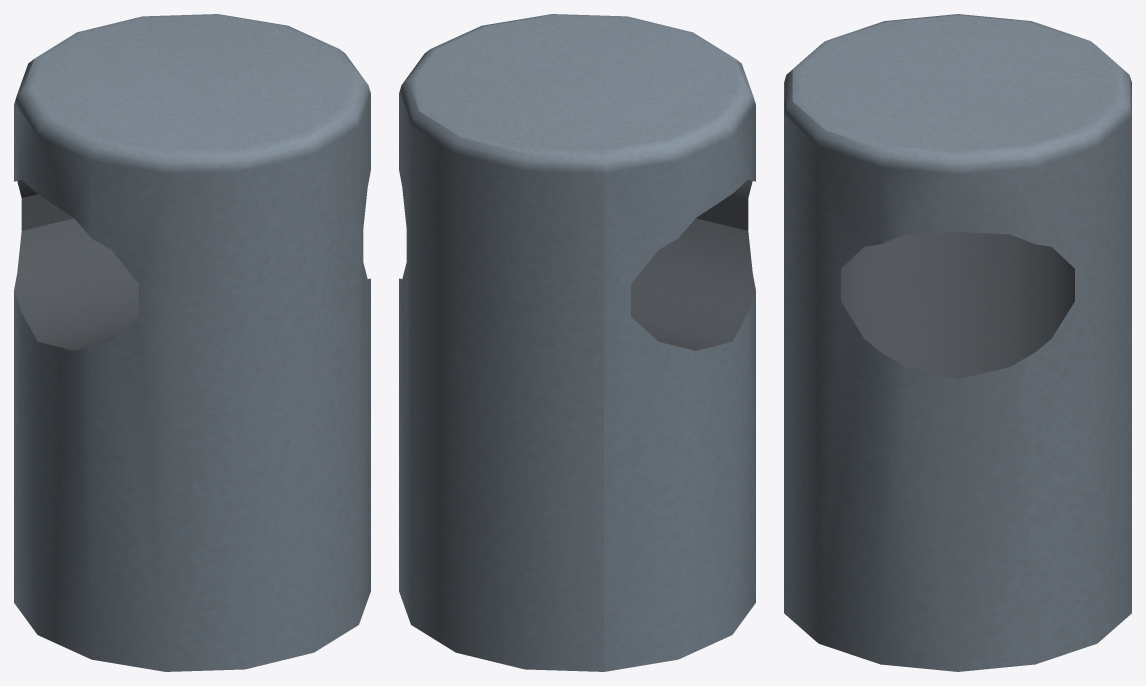
File: bin.fbx
3 renders of one model, left to right at view 1: azimuth 30°, elevation 25°; view 2: azimuth 150°, elevation 25°; view 3: azimuth 270°, elevation 25°, orthographic.
Parts seen in each view (by area): view 1: bin; view 2: bin; view 3: bin.
Part boxes in pixels (box(x1,y1,x2,y2)): bin: box(14, 14, 370, 671); bin: box(399, 14, 755, 671); bin: box(784, 14, 1131, 671).
Size of the model in its own units: 73.66 by 117 by 71.81.
Materials: 1 (1 with a texture image).
